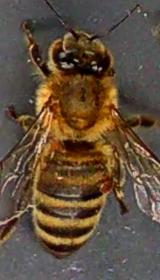varroa_mite: (93, 165, 121, 195)
